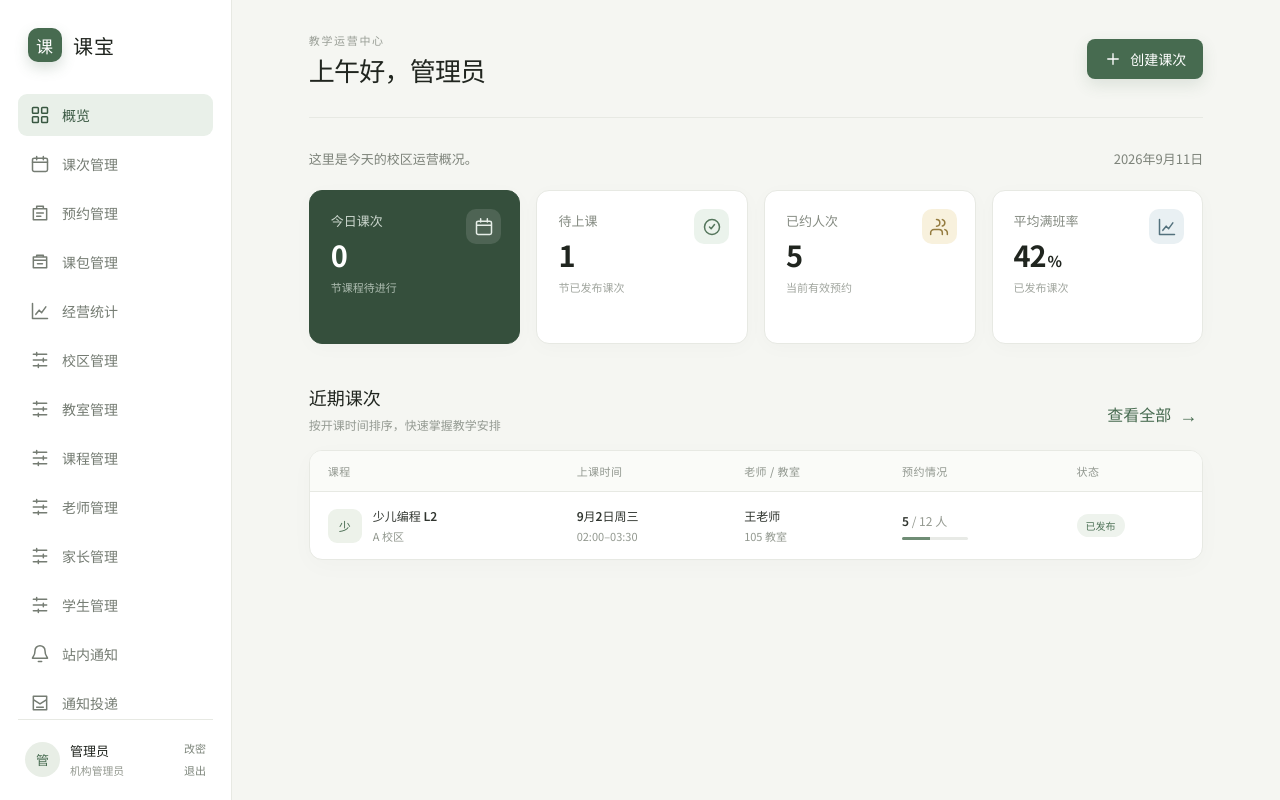
Scenario: 管理后台 › 提交冲突时展示服务端错误和冲突课次
Check: the text "少儿编程 L2" is shown, box x1=373 y1=507 x2=437 y2=524
Click the button "创建课次". click: (1145, 58)
box: x1=1087 y1=38 x2=1203 y2=78
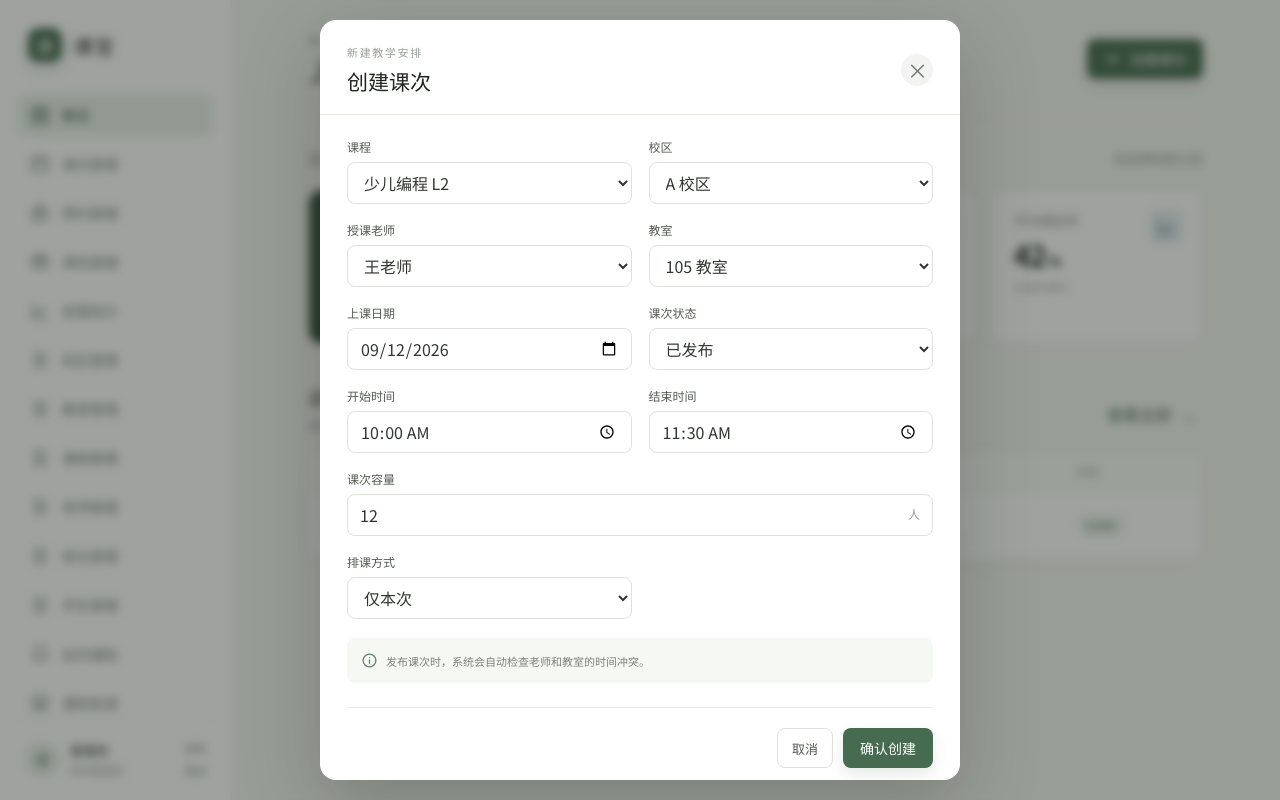
Click the button "确认创建". click: (888, 748)
box: x1=843 y1=728 x2=933 y2=768
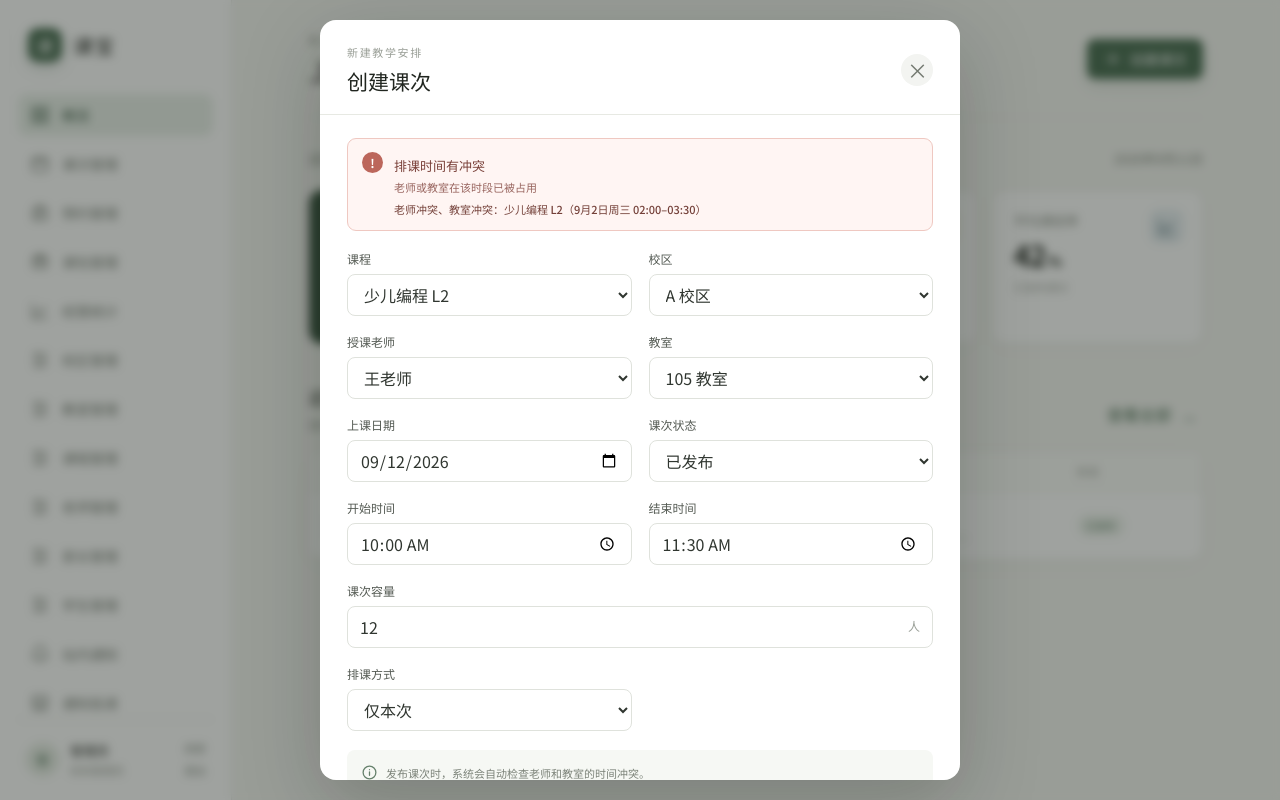
Check: the message shows "排课时间有冲突", box x1=394 y1=156 x2=485 y2=175
Check: the message shows "老师冲突、教室冲突", box x1=347 y1=138 x2=933 y2=231
Check: the message shows "少儿编程 L2", box x1=493 y1=201 x2=707 y2=217
